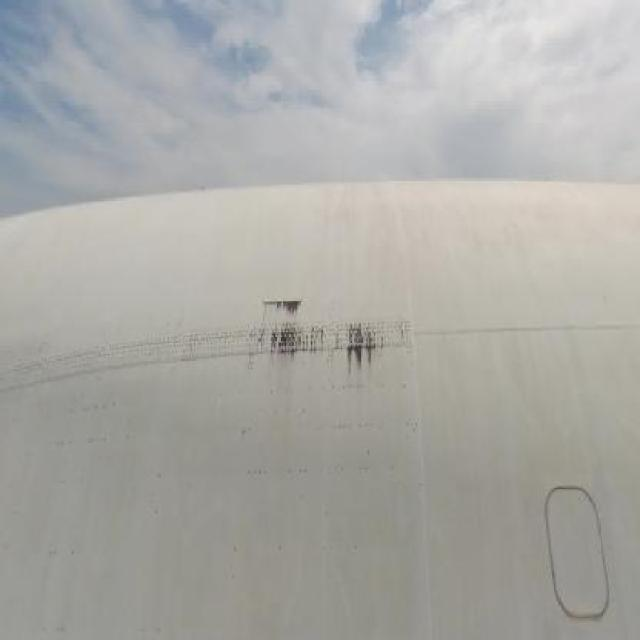Rust: (240, 273, 398, 407)
